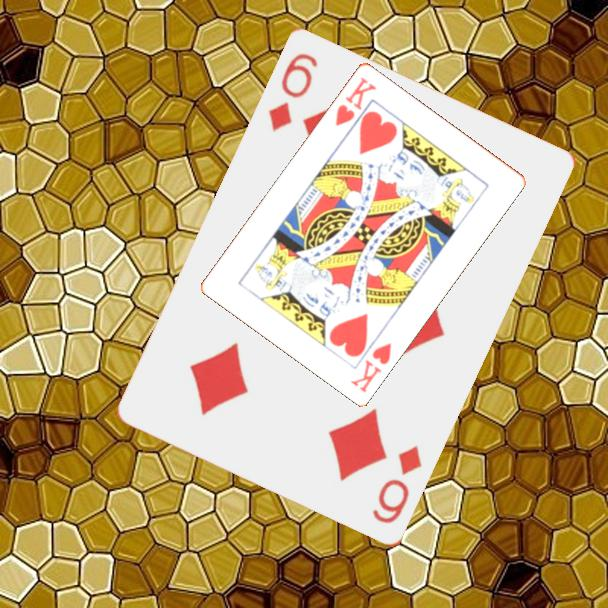d06: (369, 442, 425, 528), (265, 50, 321, 136)
h13: (331, 73, 379, 129), (347, 338, 394, 395)
